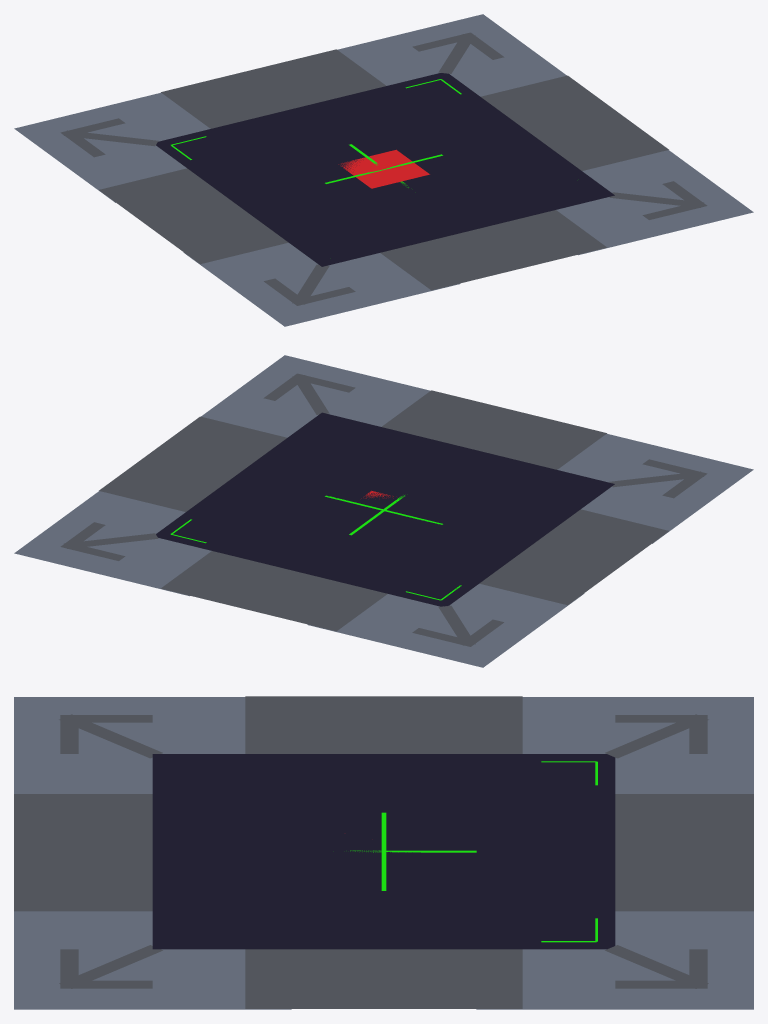
Rendered from LDT_Tower_StabilisationPad2.fbx.
3 views of the same model, one above another, from view 1: azimuth 30°, elevation 25°; view 2: azimuth 150°, elevation 25°; view 3: azimuth 270°, elevation 25° (orthographic). The views are drawn at different scales.
Parts seen in each view (by area): view 1: Plane, BL, BR, TL, TR, Bot, Left, Right, Top, Plane.001, Line1.008; view 2: Plane, TL, TR, BL, BR, Top, Left, Right, Bot, Line1.008; view 3: Plane, TR, BR, TL, BL, Right, Bot, Top, Left, Line1.008.
Boxes of the visible parts, left/top/right/bottom form: Plane: left=156, top=73, right=614, bottom=266; BL: left=183, top=242, right=460, bottom=326; BR: left=556, top=150, right=753, bottom=255; TL: left=14, top=93, right=210, bottom=202; TR: left=337, top=14, right=566, bottom=96; Bot: left=380, top=210, right=606, bottom=290; Left: left=99, top=168, right=288, bottom=264; Right: left=481, top=75, right=668, bottom=170; Top: left=161, top=49, right=385, bottom=128; Plane.001: left=338, top=149, right=429, bottom=188; Line1.008: left=171, top=79, right=461, bottom=187; Plane: left=156, top=412, right=614, bottom=606; TL: left=307, top=583, right=584, bottom=667; TR: left=14, top=491, right=211, bottom=596; BL: left=557, top=434, right=753, bottom=543; BR: left=201, top=355, right=430, bottom=437; Top: left=161, top=551, right=387, bottom=631; Left: left=479, top=509, right=668, bottom=605; Right: left=99, top=416, right=286, bottom=511; Bot: left=382, top=390, right=606, bottom=469; Line1.008: left=170, top=495, right=461, bottom=600; Plane: left=152, top=754, right=615, bottom=949; TR: left=476, top=911, right=753, bottom=1009; BR: left=14, top=911, right=291, bottom=1009; TL: left=522, top=697, right=753, bottom=793; BL: left=14, top=697, right=245, bottom=793; Right: left=245, top=949, right=522, bottom=1008; Bot: left=14, top=794, right=152, bottom=911; Top: left=615, top=794, right=753, bottom=911; Left: left=245, top=696, right=522, bottom=753; Line1.008: left=350, top=761, right=597, bottom=942.
Bounding box in the file's own units: 800 × 2 × 800.
